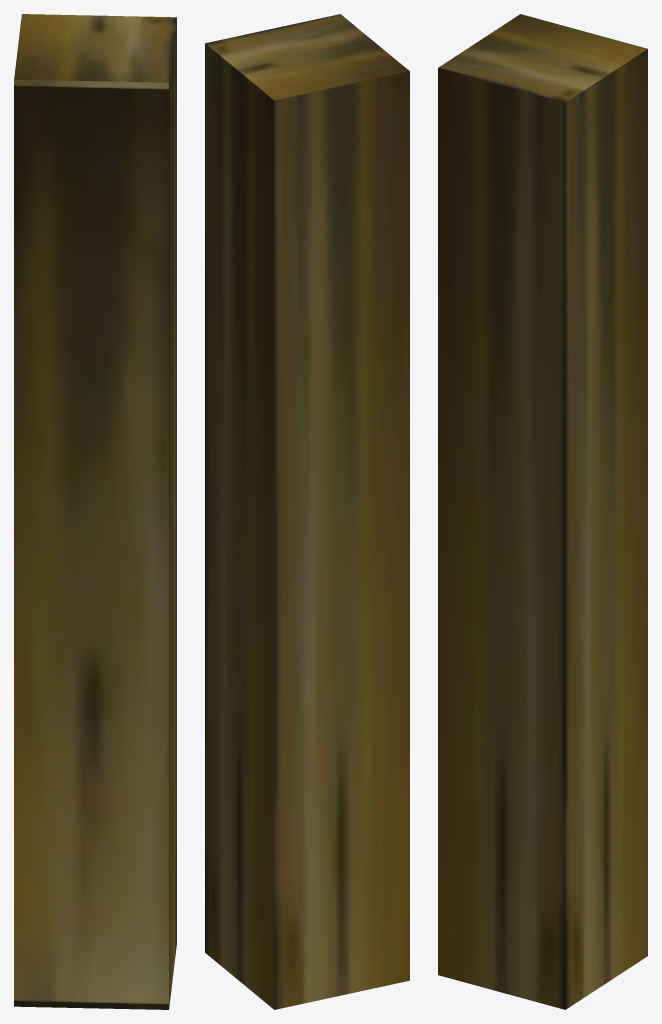
File: TheOctagon_Floor_0_Col_6.gltf
The picture shows the model from 3 angles, left to right: view 1: azimuth 30°, elevation 25°; view 2: azimuth 150°, elevation 25°; view 3: azimuth 270°, elevation 25°; orthographic projection. The views are drawn at different scales.
Parts seen in each view (by area): view 1: TheOctagon_Floor_0_Col_6; view 2: TheOctagon_Floor_0_Col_6; view 3: TheOctagon_Floor_0_Col_6.
Boxes of the visible parts, left/top/right/bottom form: TheOctagon_Floor_0_Col_6: left=14, top=14, right=176, bottom=1009; TheOctagon_Floor_0_Col_6: left=205, top=14, right=409, bottom=1009; TheOctagon_Floor_0_Col_6: left=438, top=14, right=647, bottom=1009.
Size of the model in its own units: 1.79 by 8.56 by 1.79.
1 material, 1 textured.
